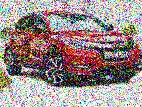car: (3, 9, 142, 92)
